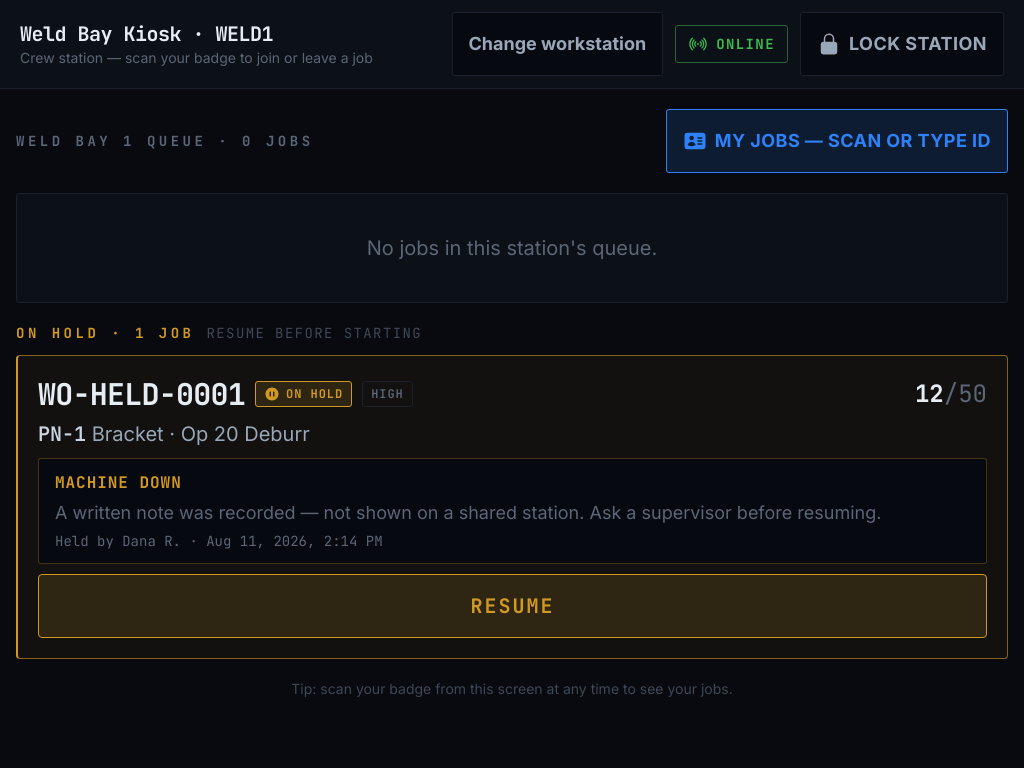
Test: CrewStationKiosk — held operations › surfaces the STILL-OPEN blocker on its own screen after a successful resume
Click the button with test id "kiosk-held-resume".
click(512, 606)  # box [38,574,987,638]
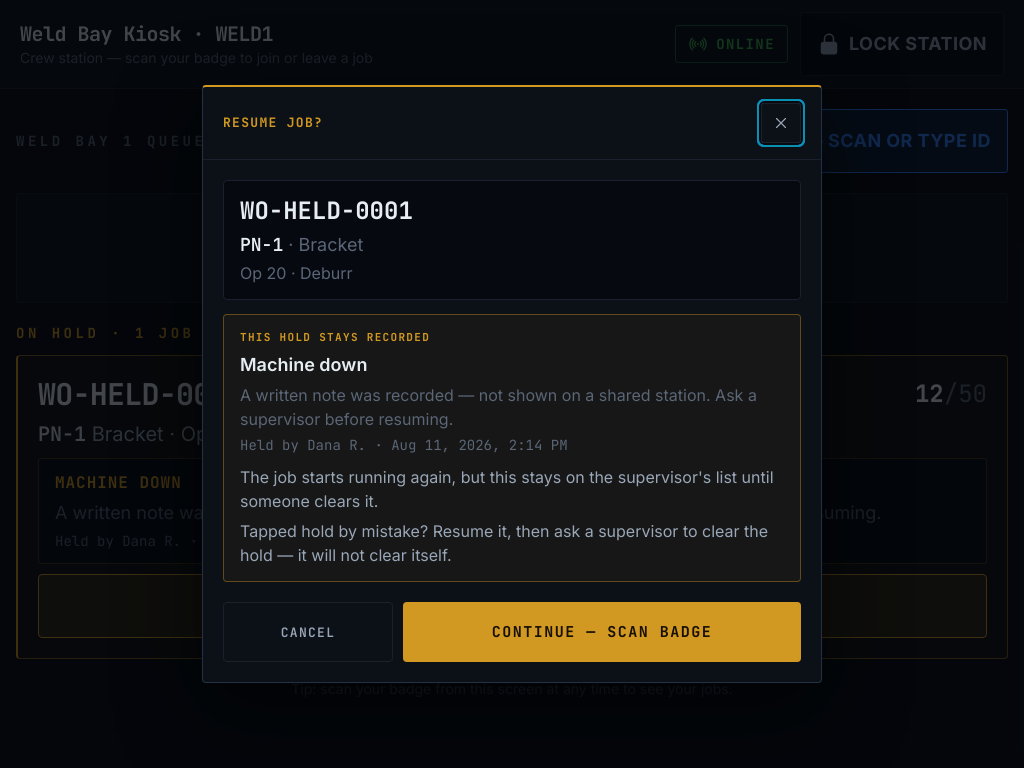
Now the dialog is shown, box [202,85,822,683]
Click the button with test id "kiosk-resume-confirm".
click(602, 632)  # box [403,602,801,662]
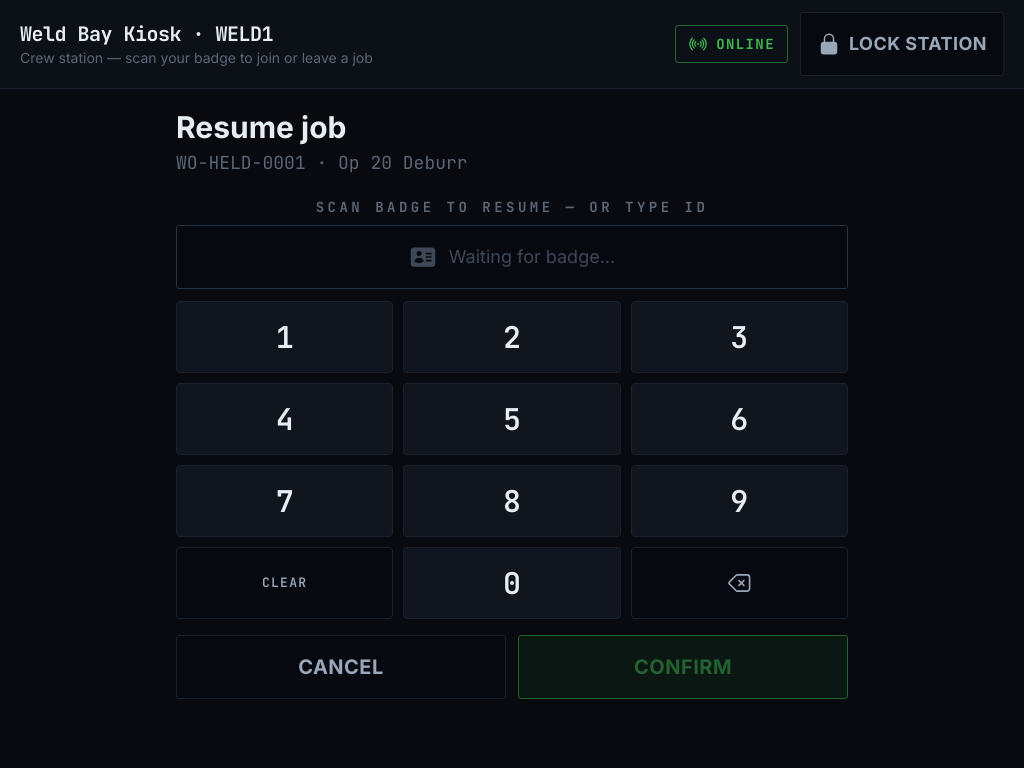
Now the element with test id "crew-resume-badge-display" is shown, box [176,225,848,289]
Type keys "4217{Enter}"
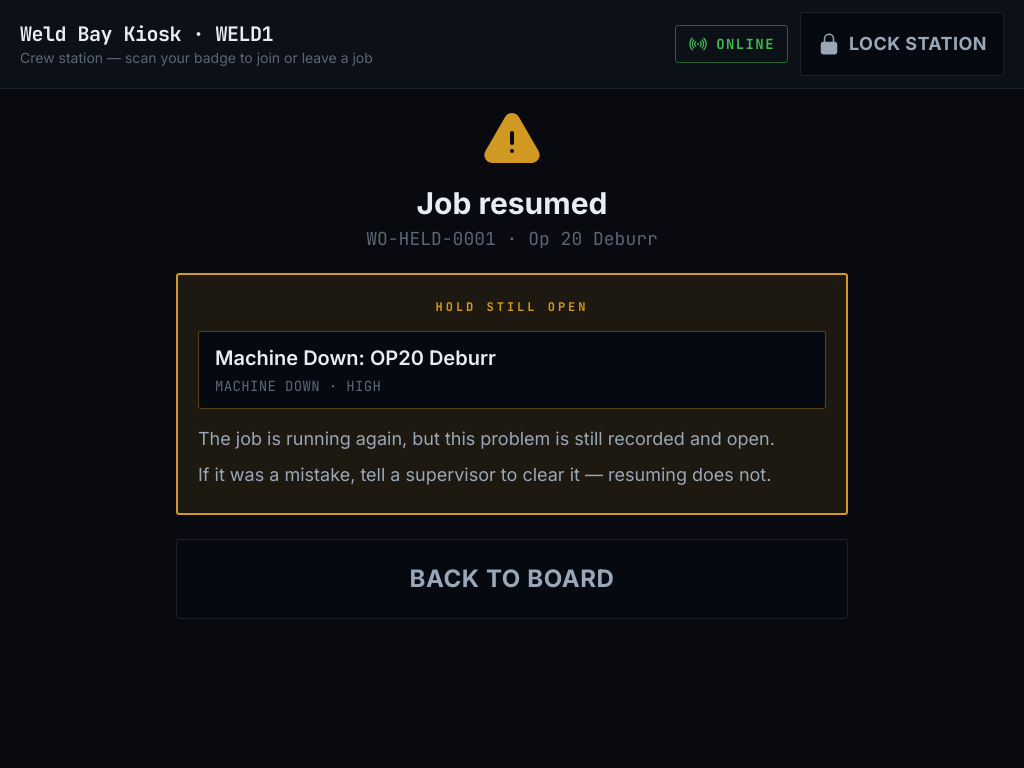
Now the text "Machine Down: OP20 Deburr" is shown, box [215,346,496,370]
Now the button with test id "kiosk-blocker-open-done" reads "Back to board", box [176,539,848,619]
